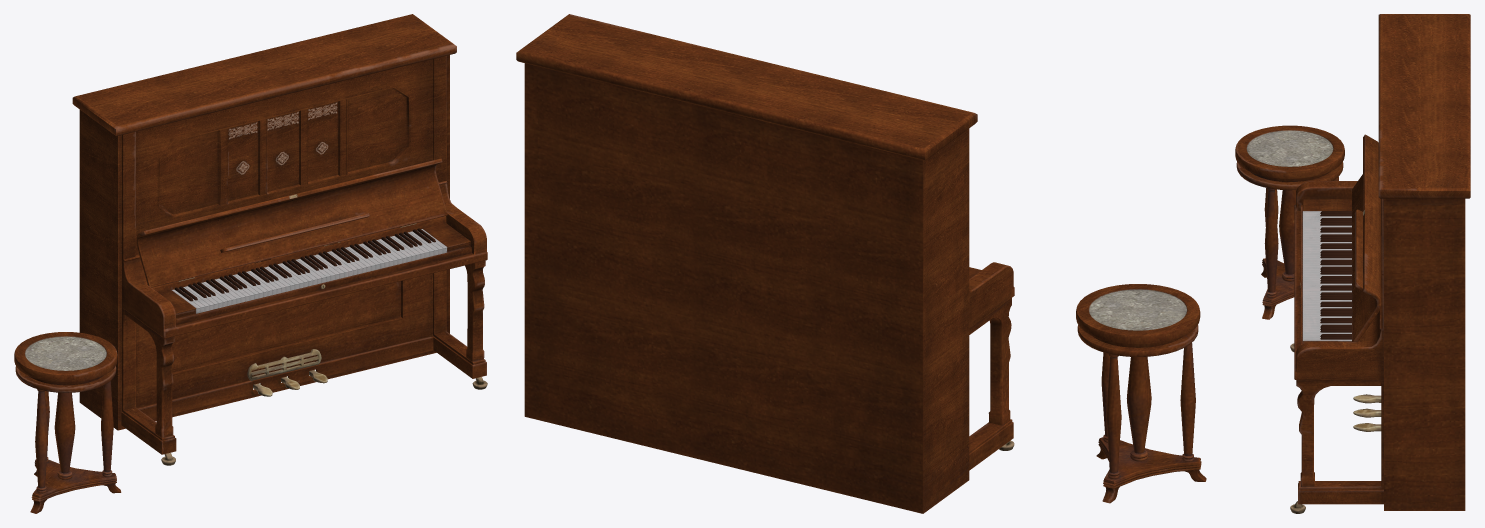
The model's file is retro_piano.glb.
The picture shows the model from 3 angles, left to right: view 1: azimuth 30°, elevation 25°; view 2: azimuth 150°, elevation 25°; view 3: azimuth 270°, elevation 25°; orthographic projection. The views are drawn at different scales.
Visible parts, largest first — view 1: gangqin_2; view 2: gangqin_2; view 3: gangqin_2.
Part boxes in pixels (x1=…): gangqin_2: x1=14, y1=14, x2=487, y2=513; gangqin_2: x1=516, y1=14, x2=1206, y2=513; gangqin_2: x1=1235, y1=14, x2=1470, y2=513.
Size of the model in its own units: 2162 by 1349 by 870.
1 material, 1 textured.
